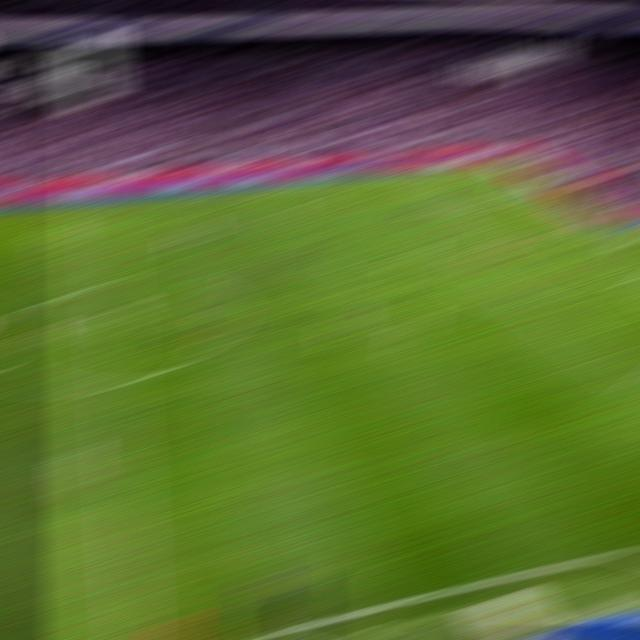bigarea_bottom_inner: (624, 374, 640, 389)
bigarea_top_inner: (409, 204, 437, 212)
bigarea_top_outter: (530, 190, 560, 193)
bottom_arc_area_intersection: (526, 300, 558, 308)
corner: (478, 162, 509, 166)
halfcircle_bottom: (101, 374, 134, 391)
halfcircle_top: (96, 277, 127, 290)
midline_top_intersection: (92, 202, 120, 206)
smallarea_top_inner: (543, 228, 570, 228)
top_arc_area_intersection: (455, 242, 483, 248)
